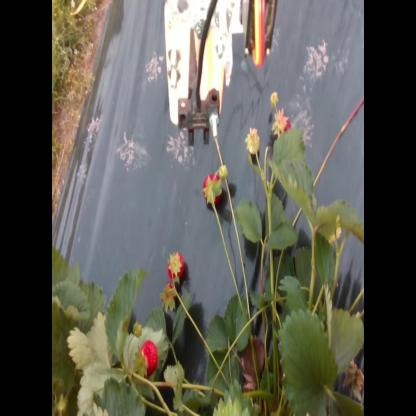ripe: (272, 109, 296, 151), (199, 172, 224, 210), (140, 339, 160, 374), (167, 251, 185, 283)
unripe: (245, 125, 262, 160)
